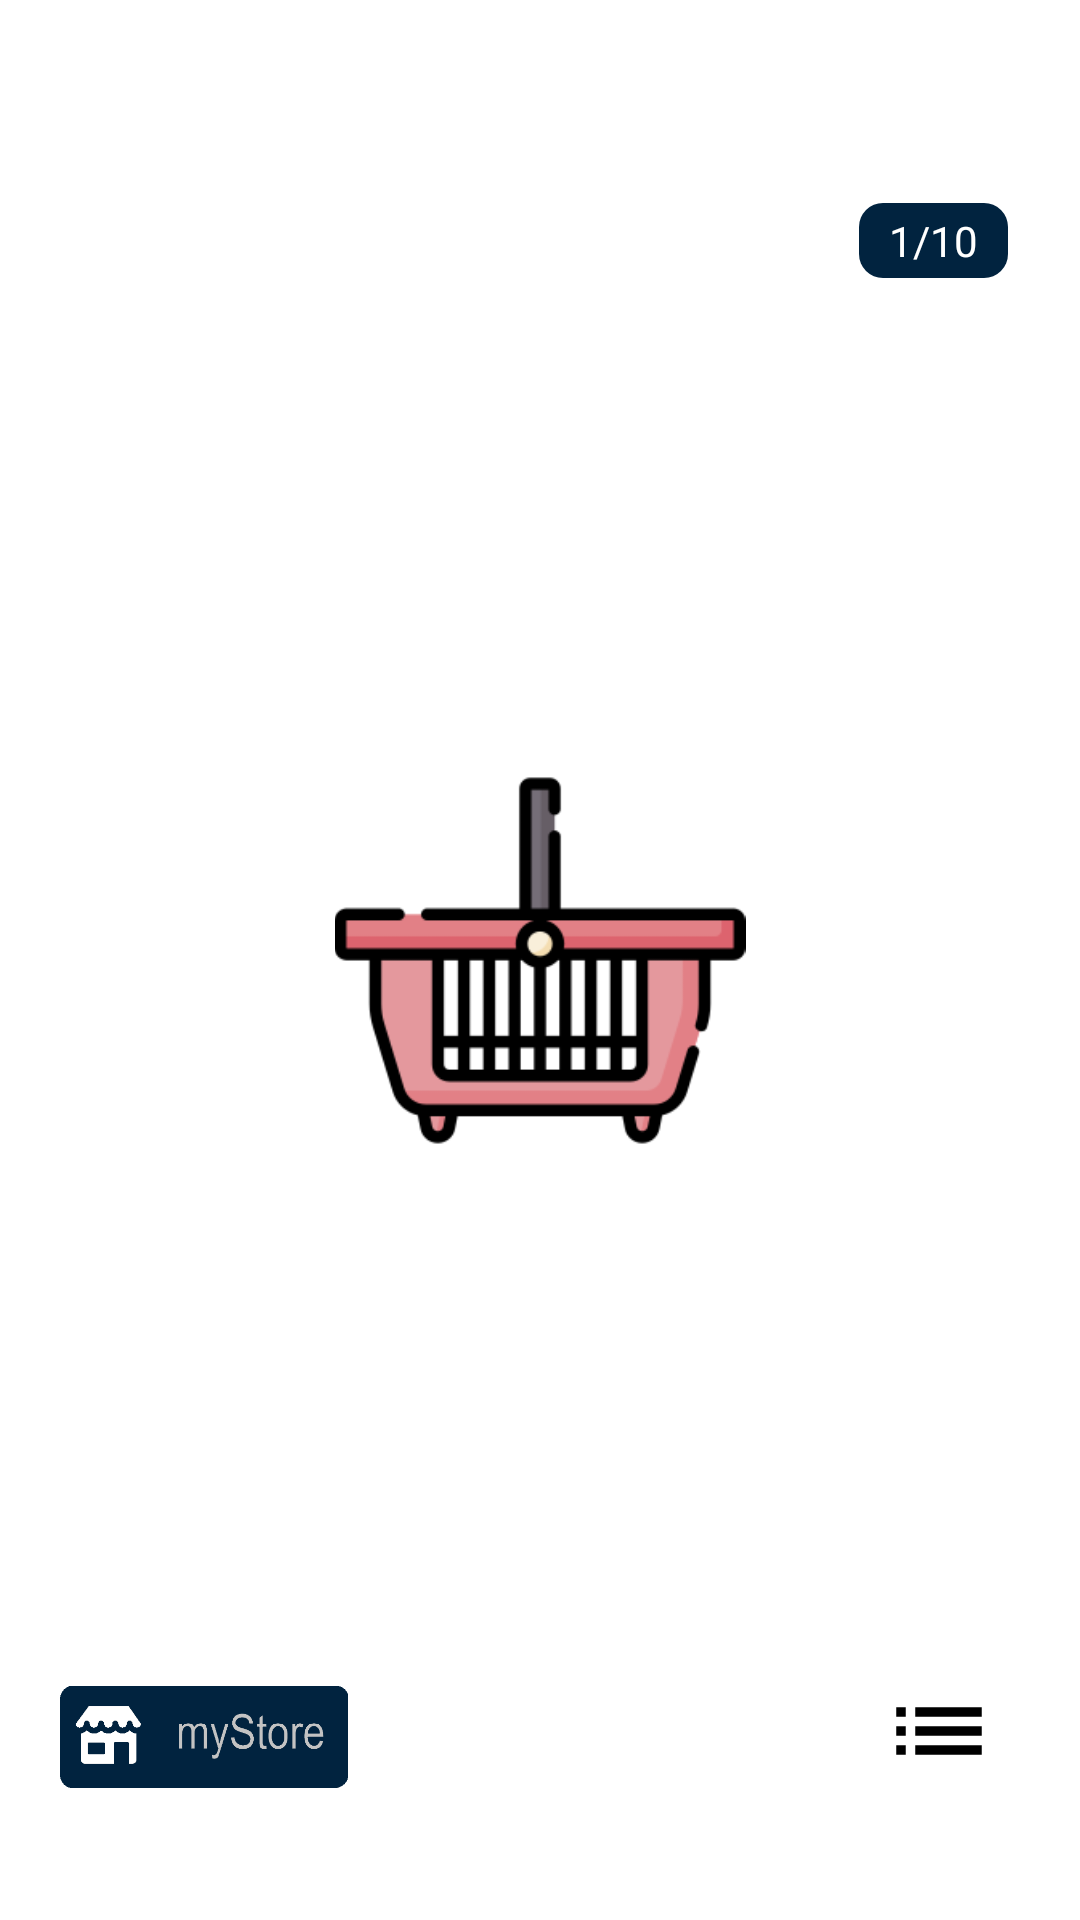

Where icons sit on this 1080px×1920px app screen, as [left=x1, top=y1, right=x2, bottom=y2]:
list: [left=896, top=1707, right=982, bottom=1755]
